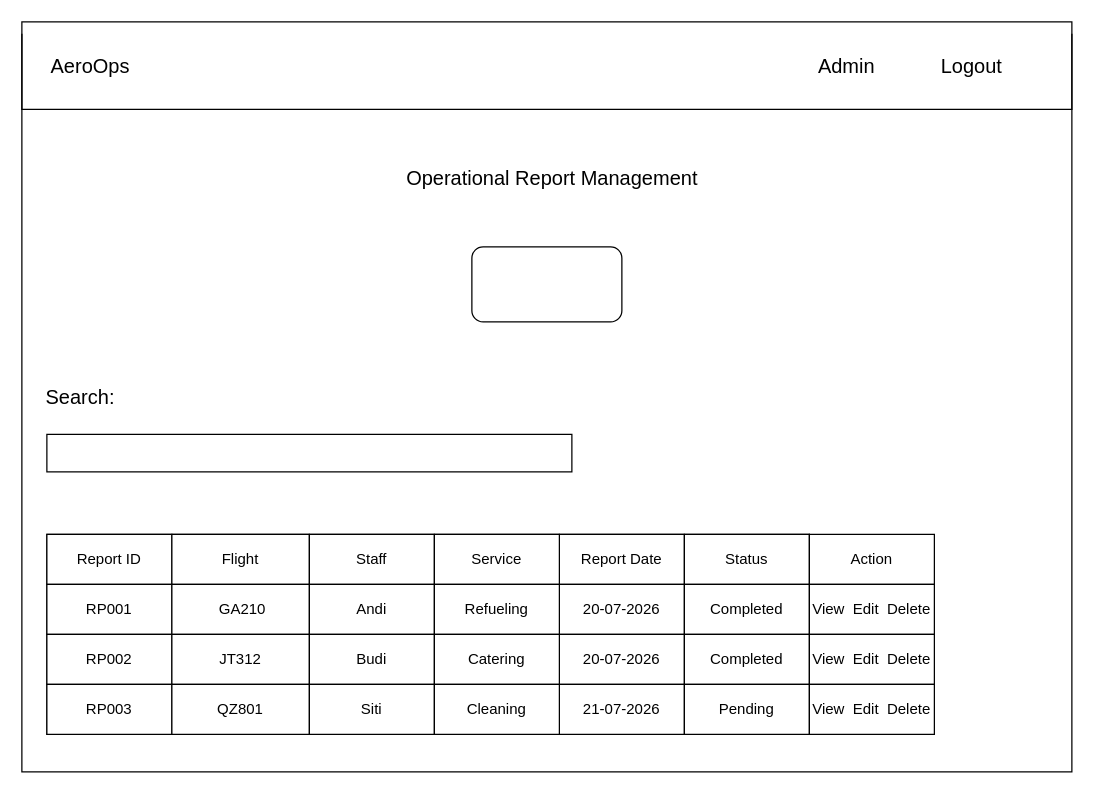
This 1094x794 diagram has some shape labels left out. The shapes that lost their labels are listed below. From the top down, each one's centre as x and y in pixels, then its label:
At point 546,284: "Add Report".
At point 309,452: "Search report...".
